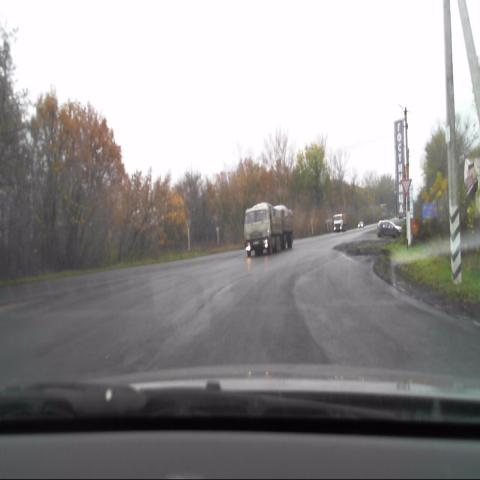2_4: (401, 178, 413, 197)
